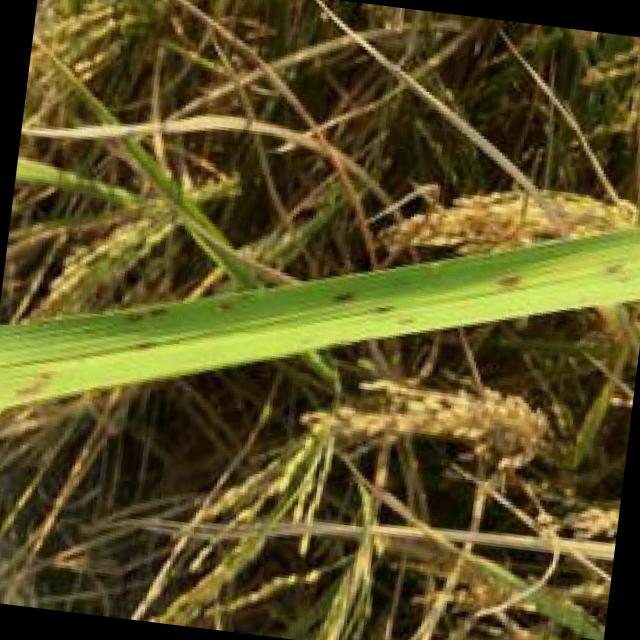Rice_Brownspot: (106, 292, 176, 358), (8, 363, 64, 406), (595, 250, 636, 286), (480, 262, 525, 288), (320, 280, 354, 304)
